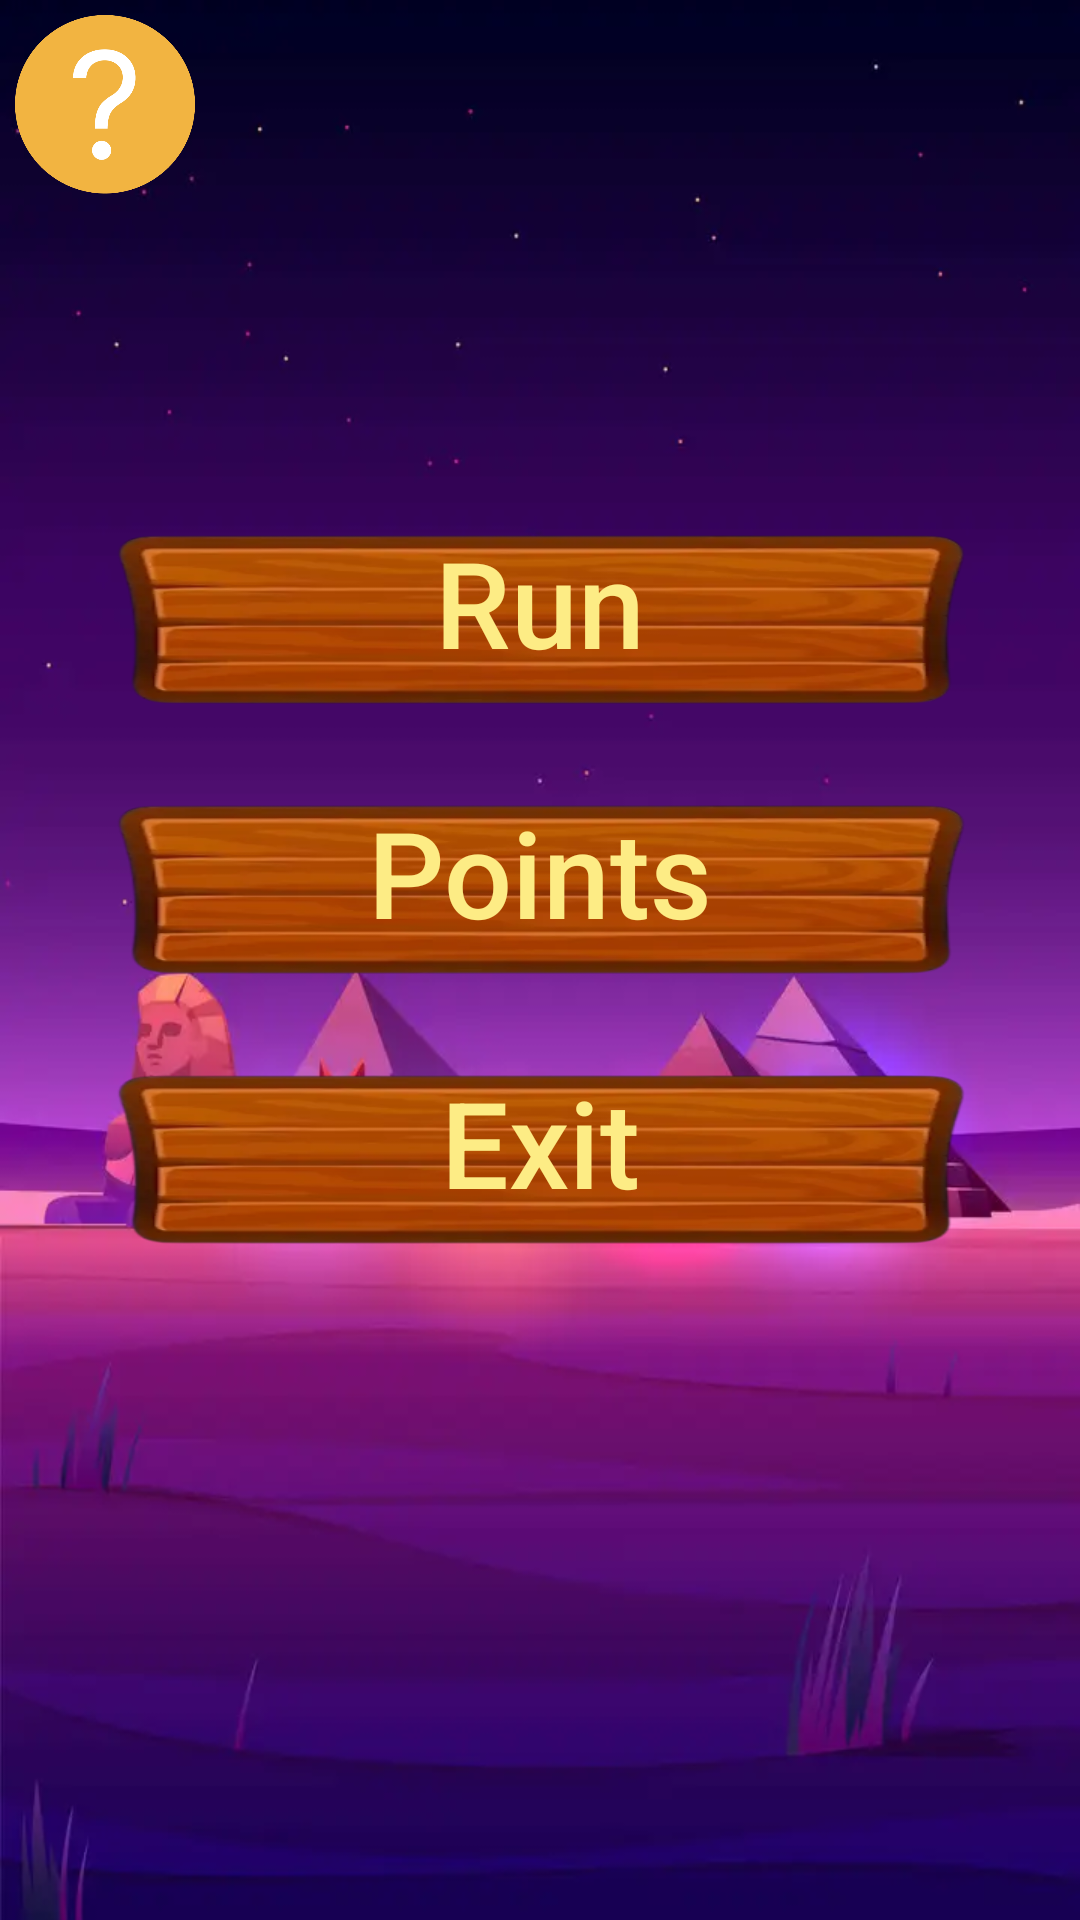

Screen size 1080 x 1920. Icon name, then its center in pixels as (x,y):
Navigate to rule page: (105,105)
